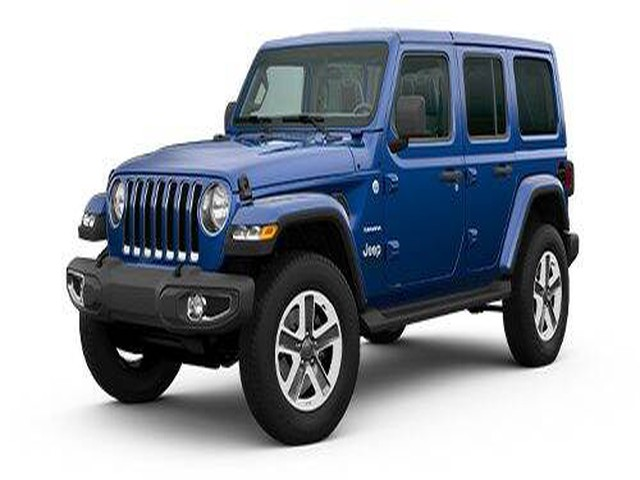Vehicle: (62, 22, 585, 446)
